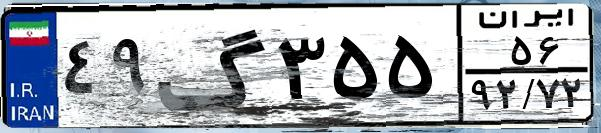2: (560, 70, 590, 125), (495, 70, 520, 125)
3: (270, 28, 330, 110)
4: (57, 26, 110, 100)
5: (385, 28, 445, 110), (330, 28, 385, 110), (508, 27, 537, 80)
6: (537, 27, 568, 80)
7: (535, 70, 560, 125)
9: (110, 28, 156, 98), (470, 70, 495, 125)
گ: (156, 12, 270, 120)
